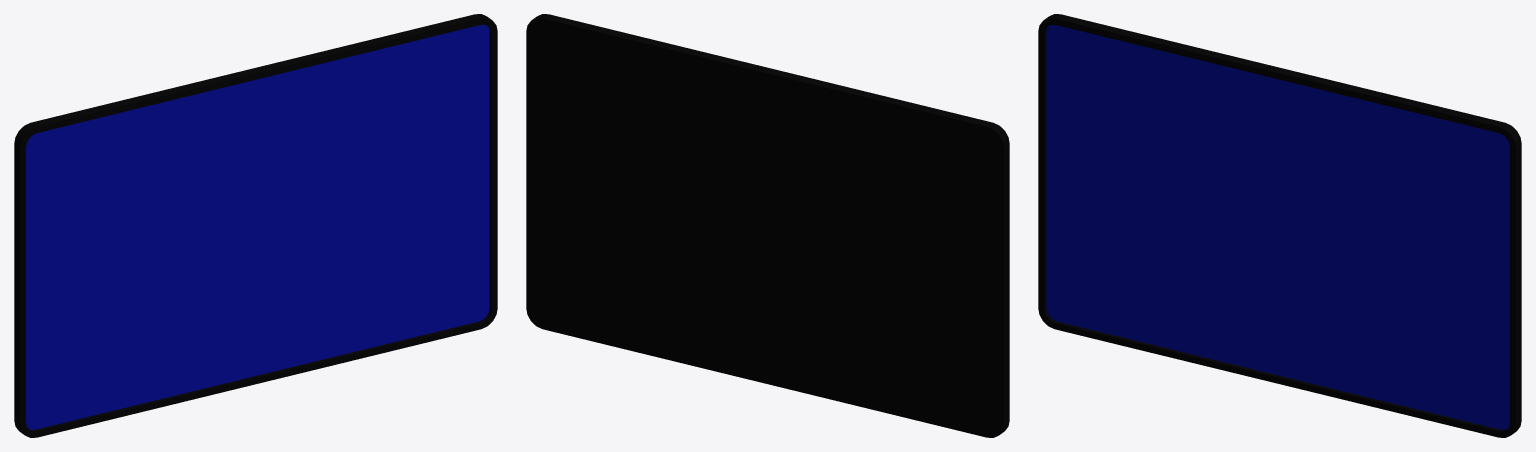
3 views of the same model, side by side, from view 1: azimuth 30°, elevation 25°; view 2: azimuth 150°, elevation 25°; view 3: azimuth 330°, elevation 25° (orthographic).
Parts seen in each view (by area): view 1: Cube.001; view 2: Cube.001; view 3: Cube.001.
Part boxes in pixels (x1,y1,x2,y2): Cube.001: (14, 14, 497, 437); Cube.001: (526, 14, 1009, 437); Cube.001: (1038, 14, 1521, 437).
Bounding box in the file's own units: 1057 × 657 × 22.45.
